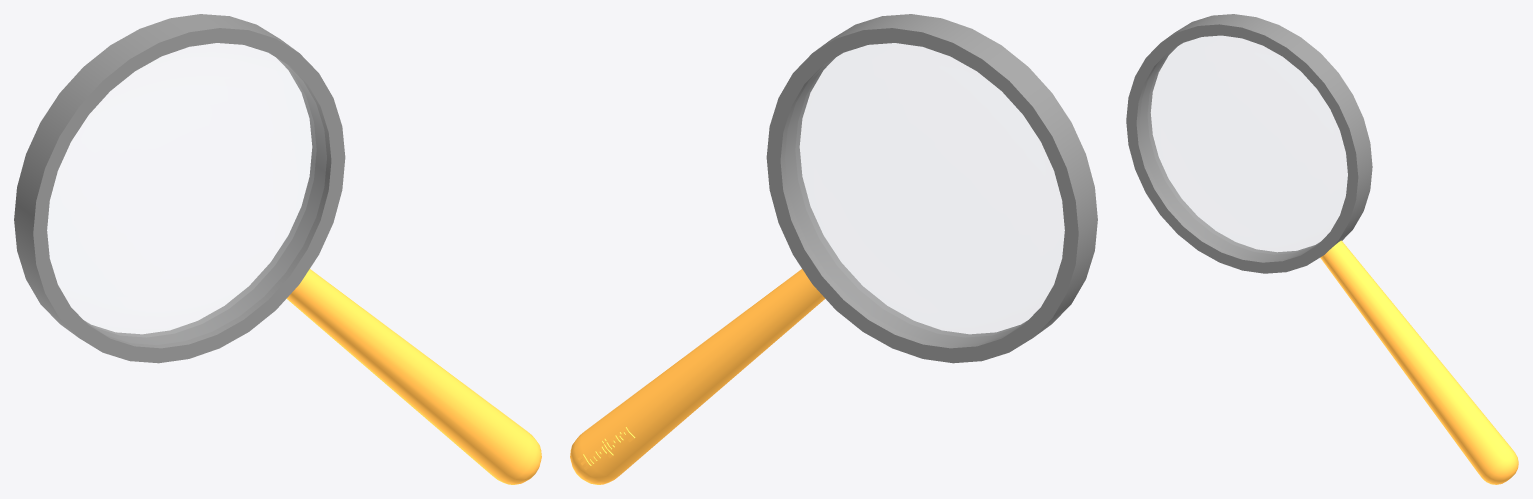
Rendered from magnifying_glass_tilted_left.gltf.
3 views of the same model, side by side, from view 1: azimuth 30°, elevation 25°; view 2: azimuth 150°, elevation 25°; view 3: azimuth 330°, elevation 25° (orthographic). The views are drawn at different scales.
Parts seen in each view (by area): view 1: Sphere.528; view 2: Sphere.528; view 3: Sphere.528.
Boxes of the visible parts, <box> form: Sphere.528: <box>14,14,541,484</box>; Sphere.528: <box>570,14,1097,484</box>; Sphere.528: <box>1126,14,1518,484</box>.
Bounding box in the file's own units: 2.17 × 2.17 × 0.2115.
Materials: 2 (1 with a texture image).
